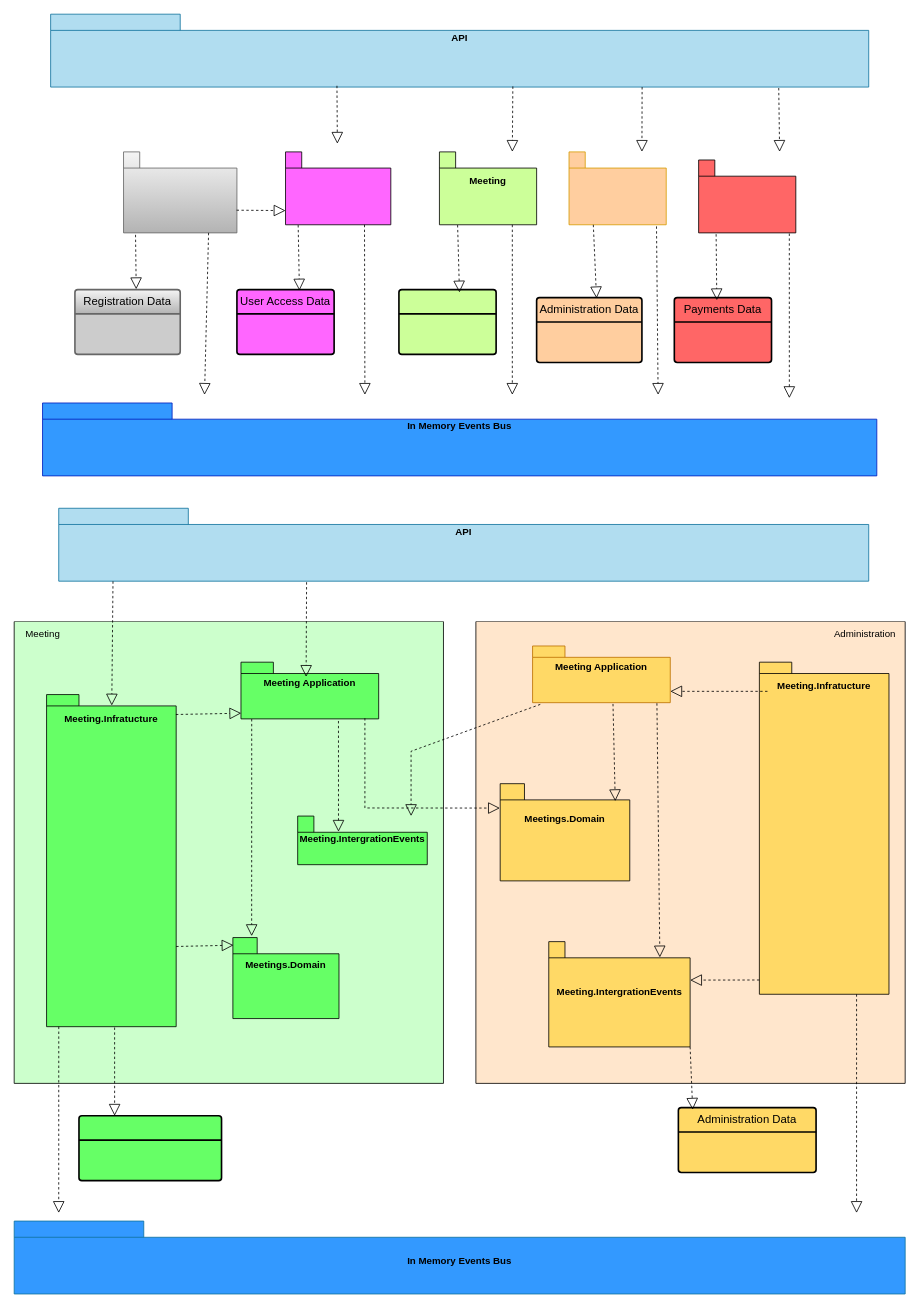
The diagram is 919 pixels wide and 1308 high, and some of its shapes have lost their labels. Here are the shapes that lost their labels. From the top down, the centre of each, then its label:
At point (180, 192): "Registrations".
At point (338, 188): "User Access".
At point (617, 188): "Admisnistration".
At point (747, 196): "Payments".
At point (447, 321): "Meeting Data".
At point (150, 1148): "Meetings Data".
